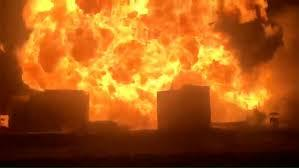fire: (18, 6, 279, 144)
